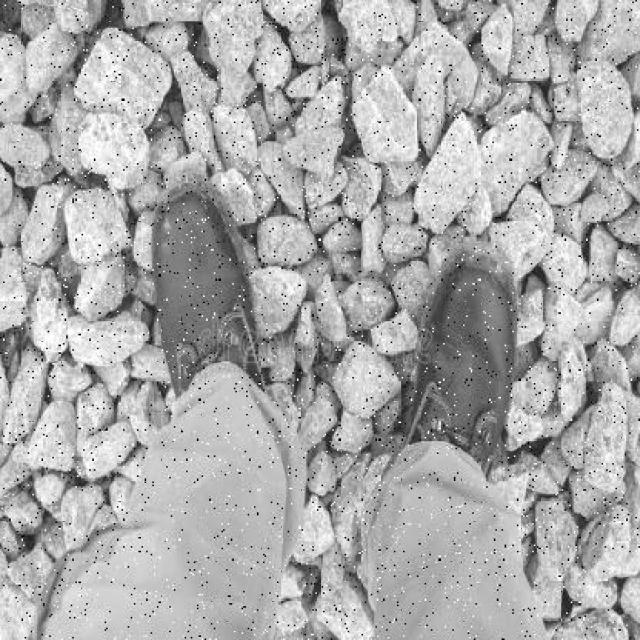shoes: (142, 182, 282, 432), (409, 242, 516, 496)
